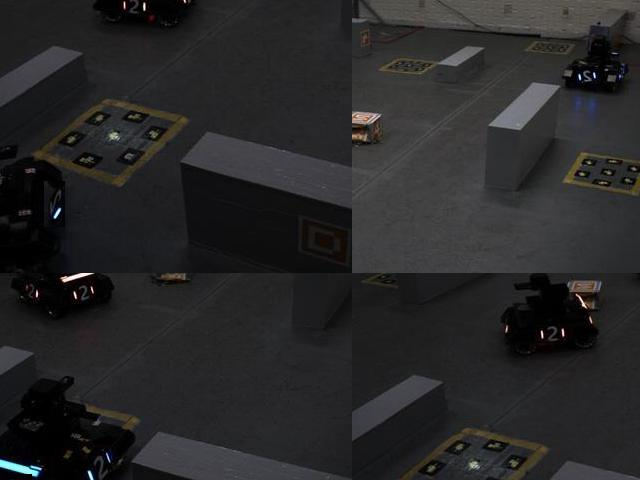armor: (80, 444, 116, 479), (44, 182, 66, 229), (68, 284, 100, 305), (536, 323, 567, 344), (117, 0, 151, 19), (574, 67, 602, 89), (21, 279, 41, 304), (177, 0, 199, 11)
